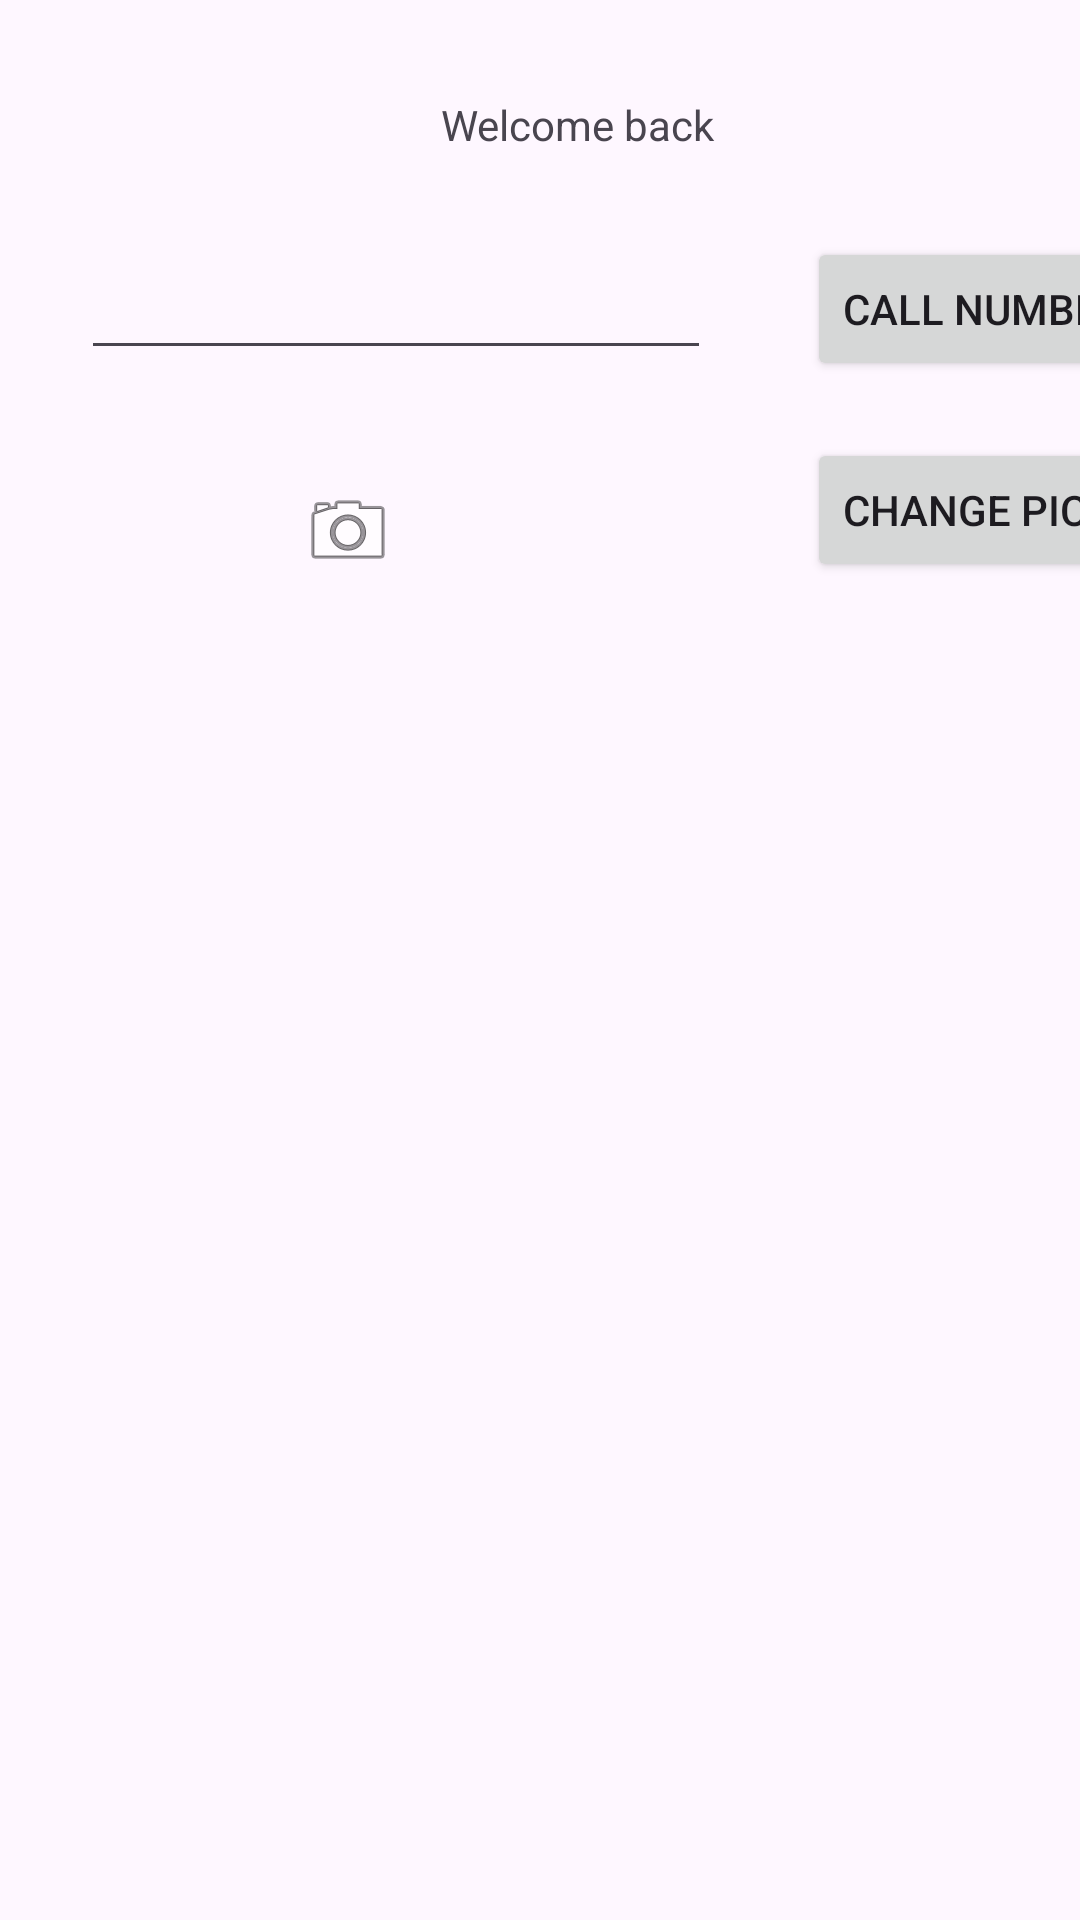

Locate icon controls on the screen. Image size 1080 × 1920, boxes as (x1,y1,x2,y2).
camera: (311,500,385,559)
